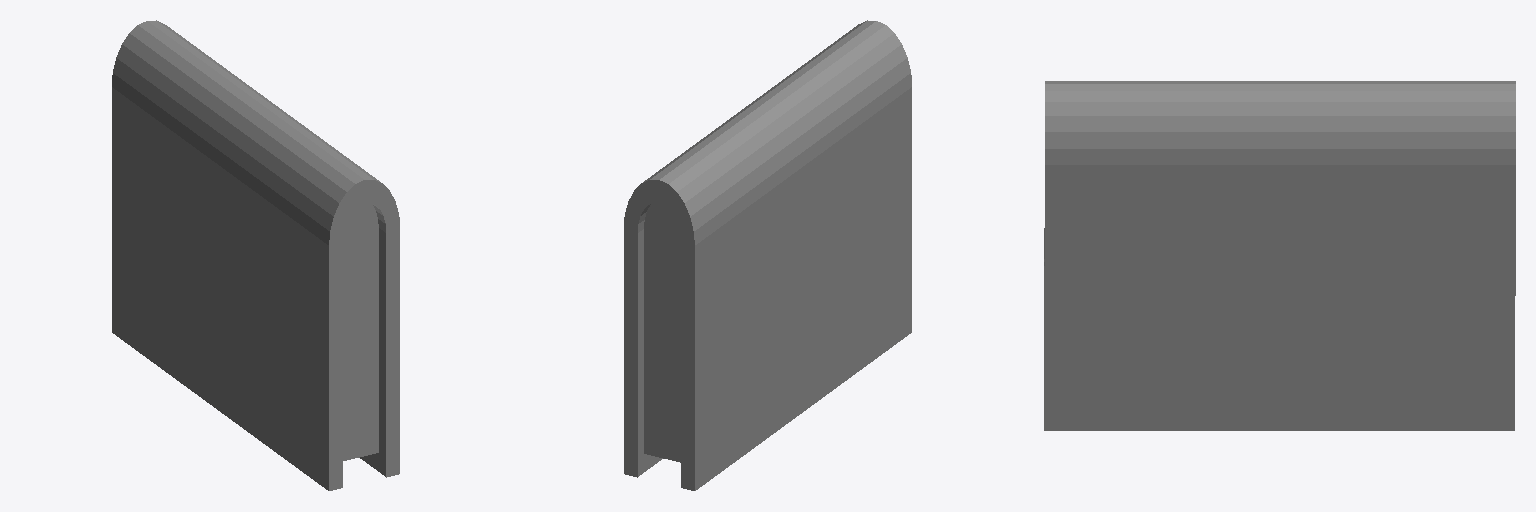
robot.urdf — cube.urdf:
<?xml version="0.0" ?> 
<robot name="cube.urdf"> 
<link name="legobrick"> 
<contact> 
<lateral_friction value="1.0"/>
<rolling_friction value="0.0"/>
<contact_cfm value="0.0"/>
<contact_erp value="1.0"/>
</contact> 
<inertial> 
<origin rpy="0 0 0" xyz="0.0 0.0 0.0"/> 
<mass value="0.1"/> 
<inertia ixx="1" ixy="0" ixz="0" iyy="1" iyz="0" izz="1"/> 
</inertial> 
<visual> 
<origin rpy="1.570796 0 0" xyz="3.2756746487859923e-19 -5.5989361702129635e-05 -0.010970297872340424"/> 
<geometry> 
<mesh filename="2cad1ab3b30cfc29eb1db99dff281a57.obj" scale="1 1 1"/> 
</geometry> 
<material name="yellow"> 
<color rgba="0.6 0.6 0.6 1"/> 
</material> 
</visual> 
<collision> 
<origin rpy="1.570796 0 0" xyz="3.2756746487859923e-19 -5.5989361702129635e-05 -0.010970297872340424"/> 
<geometry> 
<mesh filename="2cad1ab3b30cfc29eb1db99dff281a57_col.obj" scale="1 1 1"/> 
</geometry> 
</collision> 
</link> 
</robot>

--- What the picture shows (computed from the rendered views, not written in the file) ---
The picture shows the robot from 3 angles, left to right: view 1: azimuth 30°, elevation 25°; view 2: azimuth 150°, elevation 25°; view 3: azimuth 270°, elevation 25°; orthographic projection.
Model cube.urdf with 1 links and 0 joints (none), rooted at legobrick, posed all joints at 0.
Visible links, largest first — view 1: legobrick; view 2: legobrick; view 3: legobrick.
Link boxes in pixels (x1=…): legobrick: x1=112, y1=20, x2=399, y2=490; legobrick: x1=624, y1=20, x2=911, y2=490; legobrick: x1=1044, y1=81, x2=1515, y2=430.
Size in the robot's own frame: 0.0111 by 0.0586 by 0.045 metres.
Meshes: 1 distinct files referenced, 1 mesh visuals loaded (1 OBJ).